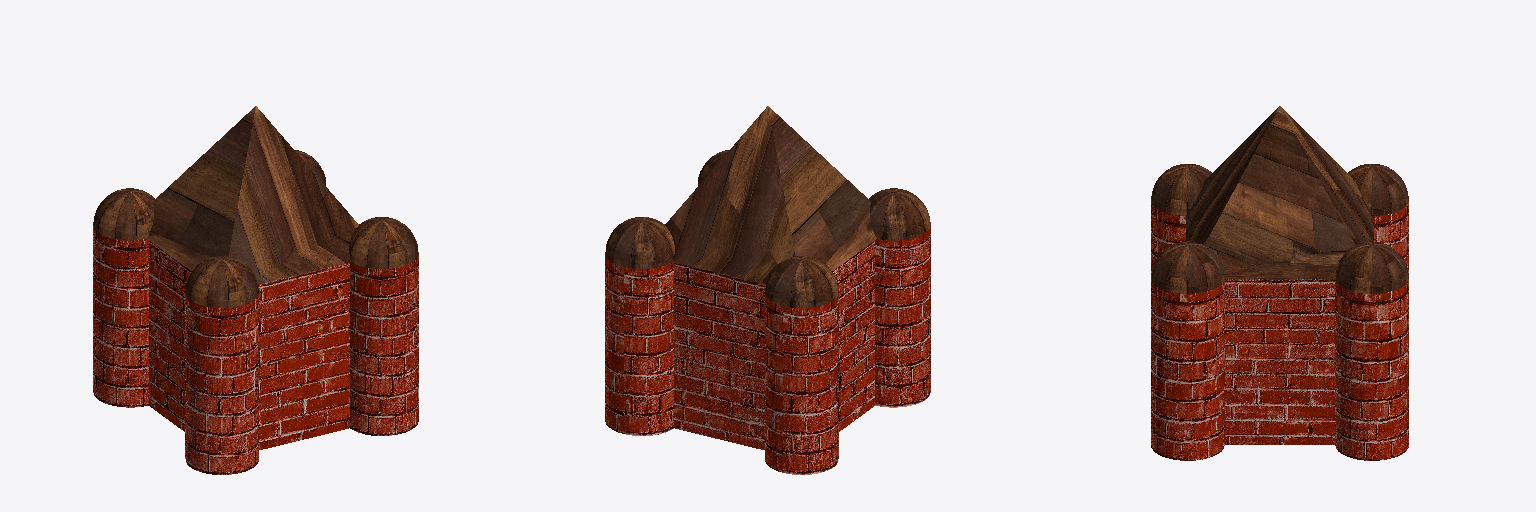
The picture shows the model from 3 angles: view 1: azimuth 30°, elevation 25°; view 2: azimuth 150°, elevation 25°; view 3: azimuth 270°, elevation 25°; orthographic projection.
Visible parts, largest first — view 1: Walls, Roof; view 2: Walls, Roof; view 3: Walls, Roof.
Boxes of the visible parts, x1=… form: Walls: x1=93, y1=226, x2=418, y2=474; Roof: x1=93, y1=106, x2=418, y2=307; Walls: x1=605, y1=226, x2=930, y2=474; Roof: x1=605, y1=106, x2=930, y2=307; Walls: x1=1151, y1=203, x2=1408, y2=460; Roof: x1=1151, y1=106, x2=1408, y2=293.
Size of the model in its own units: 1.4 by 1.8 by 1.4.
2 materials, 2 textured.